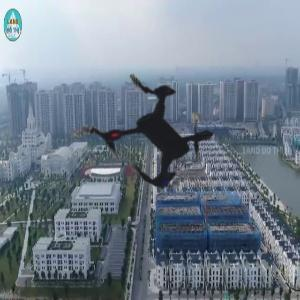drone: (40, 10, 284, 254)
